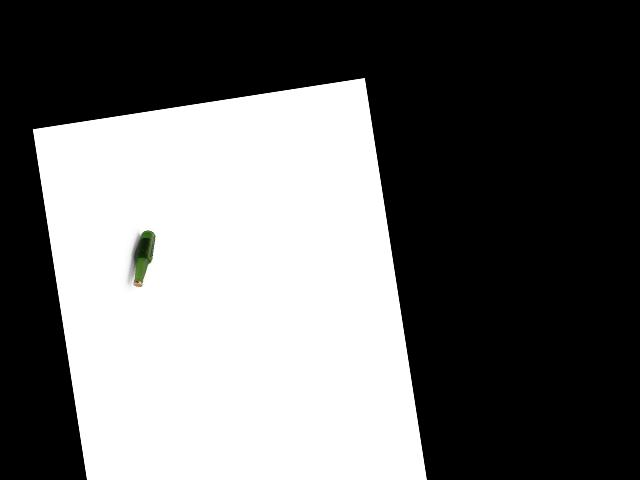beer: (125, 229, 162, 288)
